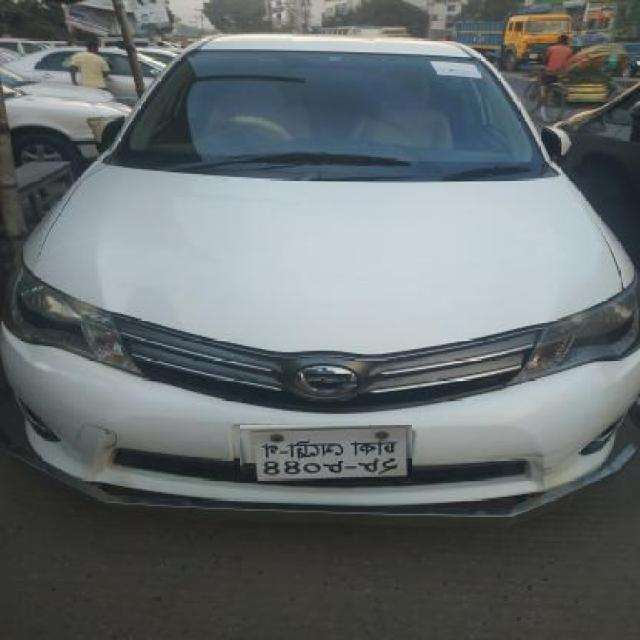numberplate: (240, 425, 412, 483)
